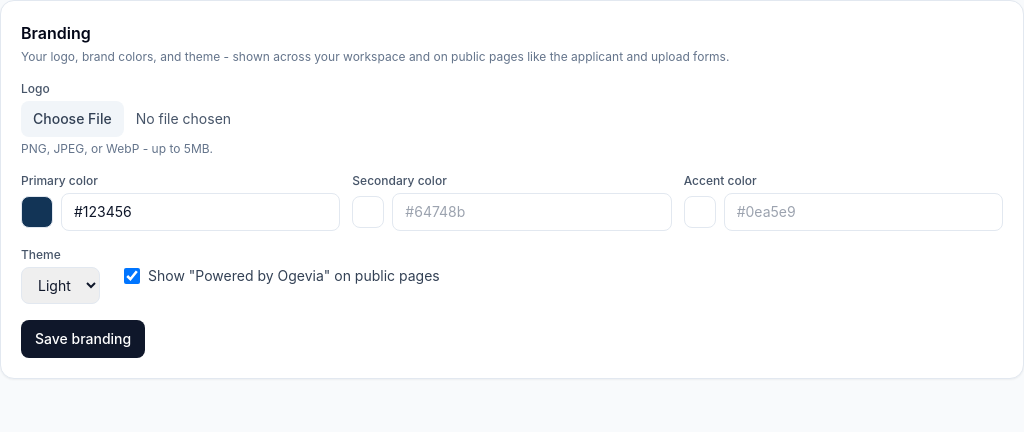
it: OrganizationBrandingCard › shows an error message when the save fails
This screenshot has width=1024, height=432.
Click the button "Save branding" at (83, 339), box [21,320,145,358]
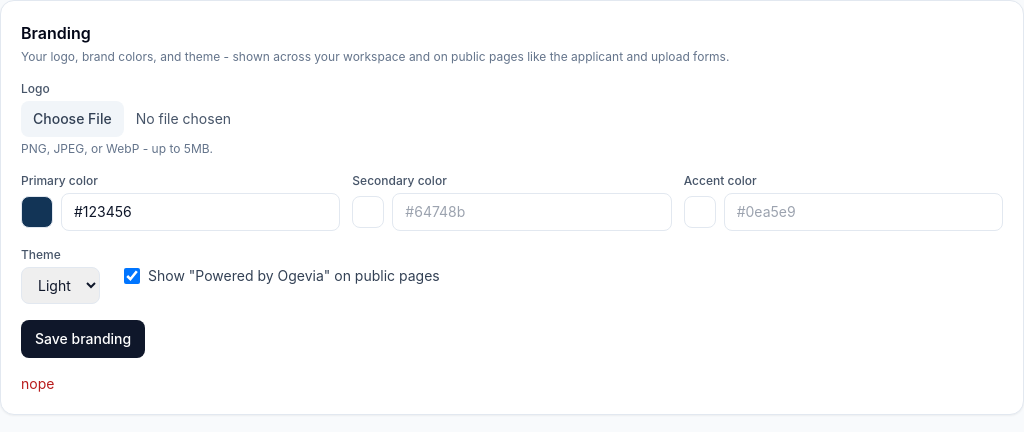
Now the text "nope" is shown, box [21,375,54,392]
